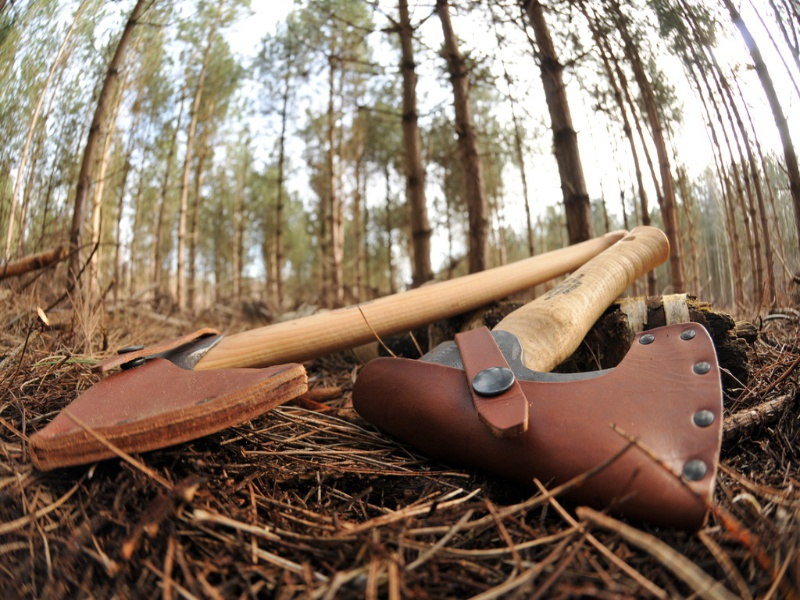axe: (44, 214, 725, 543)
